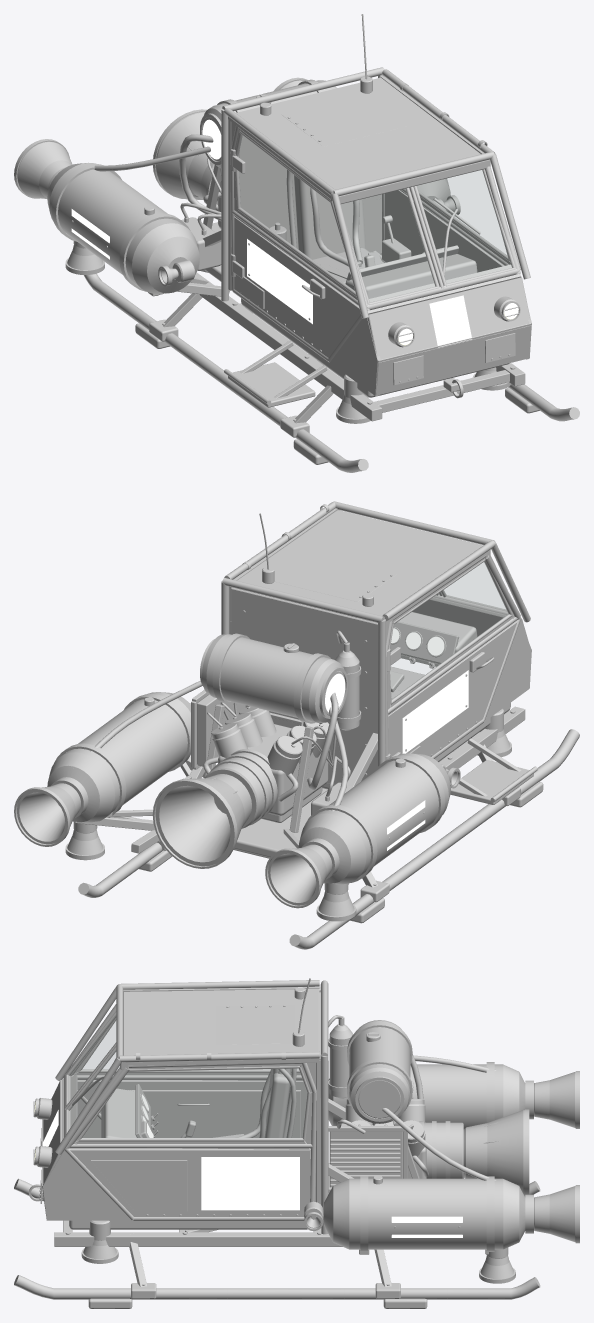
The model's file is tin-finch.glb.
3 renders of one model, top to bottom at view 1: azimuth 30°, elevation 25°; view 2: azimuth 150°, elevation 25°; view 3: azimuth 270°, elevation 25°, orthographic. The views are drawn at different scales.
Visible parts, largest first — view 1: Body_lod0, Hatch_lod0; view 2: Body_lod0, Hatch_lod0; view 3: Body_lod0, Hatch_lod0.
Part boxes in pixels (x1,y1,x2,y2): Body_lod0: [14, 14, 579, 472]; Hatch_lod0: [230, 125, 369, 362]; Body_lod0: [14, 501, 579, 949]; Hatch_lod0: [385, 554, 520, 759]; Body_lod0: [14, 978, 579, 1308]; Hatch_lod0: [63, 1004, 307, 1137].
Size of what is drawn, in the model's own units: 3.01 by 2.91 by 4.93.
